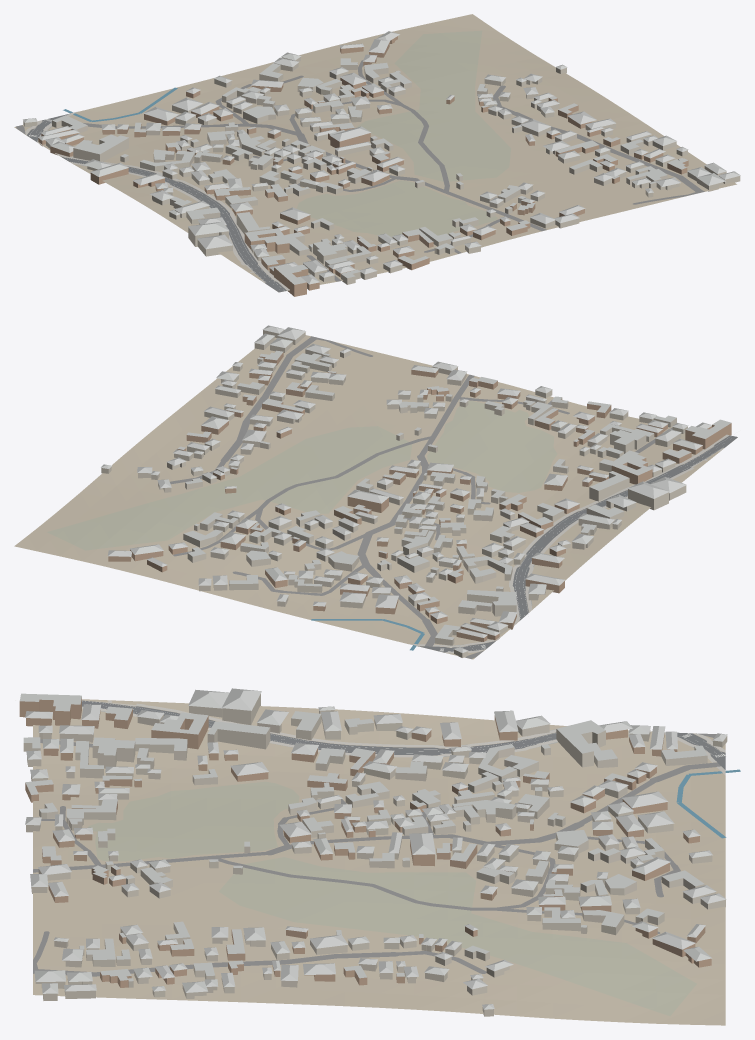
The model's file is bolak_-10_-11.glb.
3 views of the same model, one above another, from view 1: azimuth 30°, elevation 25°; view 2: azimuth 150°, elevation 25°; view 3: azimuth 270°, elevation 25° (orthographic). The views are drawn at different scales.
Visible parts, largest first — view 1: Yer_Tuproq-col, Tom_Shifer, Yer_Qabr, Devor_Suvoq-col, Devor_Gisht-col, Yol_Mahalla-col, Yol_Asfalt-col, Trotuar; view 2: Yer_Tuproq-col, Tom_Shifer, Yer_Qabr, Devor_Suvoq-col, Devor_Gisht-col, Yol_Mahalla-col, Yol_Asfalt-col, Trotuar; view 3: Yer_Tuproq-col, Tom_Shifer, Yer_Qabr, Devor_Suvoq-col, Devor_Gisht-col, Yol_Mahalla-col, Yol_Asfalt-col, Trotuar.
Part boxes in pixels (box(x1,y1,x2,y2)): Yer_Tuproq-col: box(14, 14, 736, 292); Tom_Shifer: box(23, 31, 740, 284); Yer_Qabr: box(296, 30, 510, 237); Devor_Suvoq-col: box(23, 57, 740, 284); Devor_Gisht-col: box(38, 36, 688, 296); Yol_Mahalla-col: box(16, 60, 704, 281); Yol_Asfalt-col: box(27, 114, 286, 292); Trotuar: box(25, 111, 289, 290); Yer_Tuproq-col: box(14, 335, 736, 659); Tom_Shifer: box(101, 325, 731, 652); Yer_Qabr: box(47, 401, 557, 550); Devor_Suvoq-col: box(101, 330, 687, 657); Devor_Gisht-col: box(108, 352, 731, 641); Yol_Mahalla-col: box(170, 336, 672, 658); Yol_Asfalt-col: box(417, 435, 737, 652); Trotuar: box(410, 434, 729, 653); Yer_Tuproq-col: box(33, 699, 725, 1025); Tom_Shifer: box(20, 688, 727, 1009); Yer_Qabr: box(88, 781, 696, 1016); Devor_Suvoq-col: box(23, 694, 727, 1016); Devor_Gisht-col: box(19, 697, 711, 987); Yol_Mahalla-col: box(33, 733, 720, 976); Yol_Asfalt-col: box(82, 700, 725, 769); Trotuar: box(82, 700, 725, 775).
Size of what is drawn, in the model's own units: 416 by 31.04 by 420.
